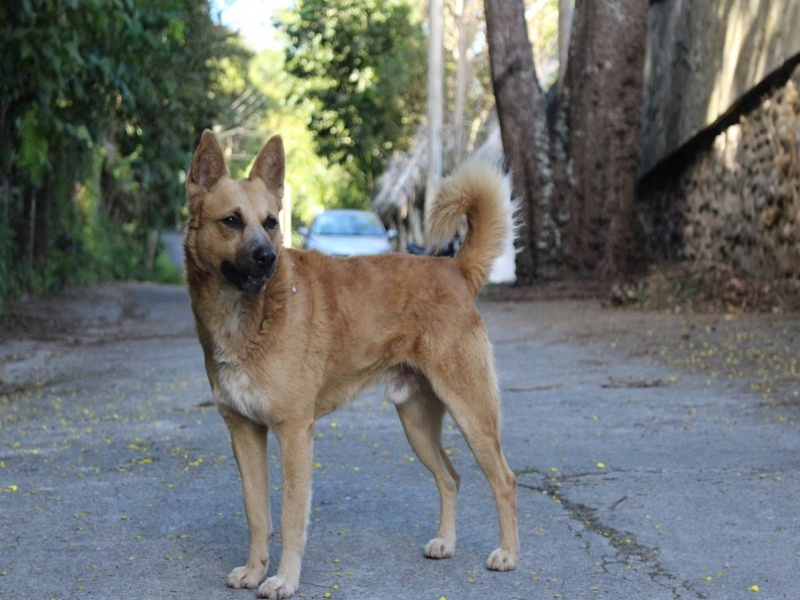dog: (179, 121, 531, 594)
